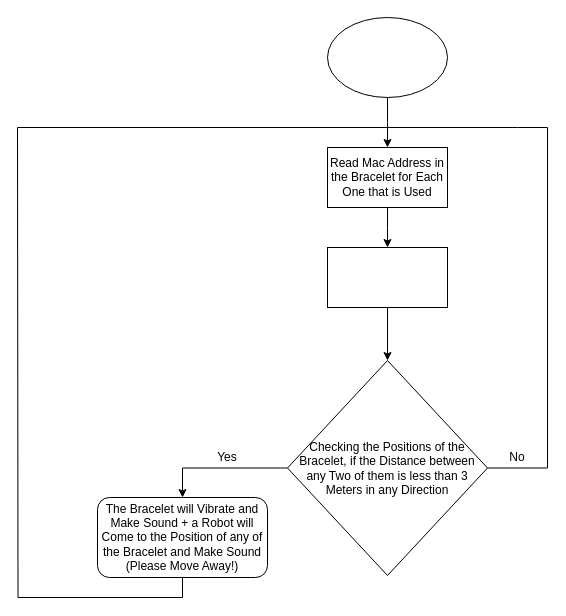
This 566x616 diagram has some shape labels left out. Each missing label, with the centre of its shape:
"Sensor in each Bracelet that will Indicate the Position of the Bracelet" belongs at pixel 387 277.
"Start" belongs at pixel 387 57.
